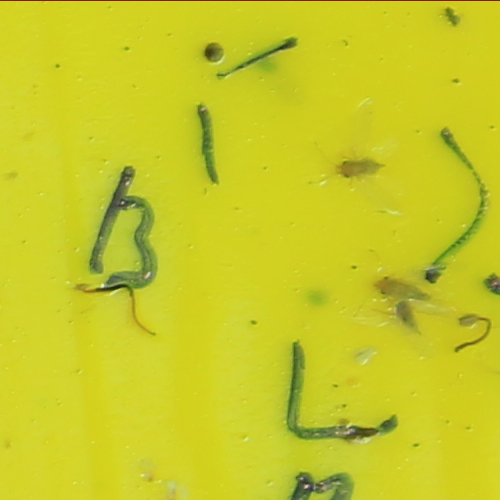psylla: (375, 270, 429, 303), (335, 155, 383, 178)
